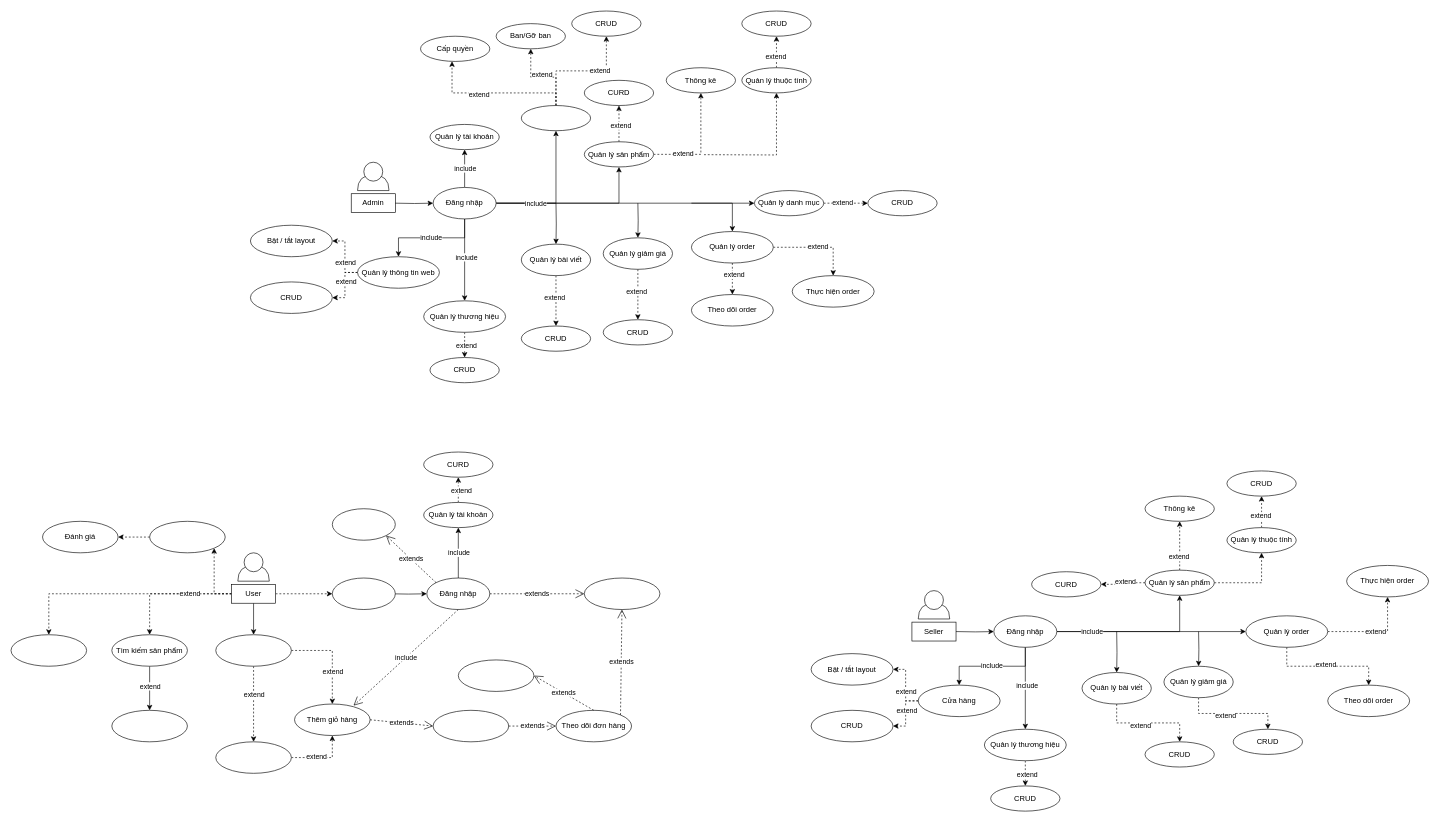
Image size: 1440x822. Some labels were removed from this diagram. Here are the shapes that lost their labels. From the top down, the centre of each, then its label:
(x=556, y=118): Quản lý user/ seller
(x=187, y=537): Xem bài viết
(x=363, y=524): Quên mật khẩu
(x=363, y=593): Đăng ký
(x=622, y=593): Xem lịch sử đơn hàng
(x=48, y=650): Gửi ý kiến đóng góp
(x=253, y=650): Xem danh sách sản phẩm
(x=496, y=675): Đánh giá sản phẩm
(x=149, y=726): Sắp xếp sản phẩm
(x=470, y=726): Thanh toán
(x=253, y=757): Xem chi tiết sản phẩm
